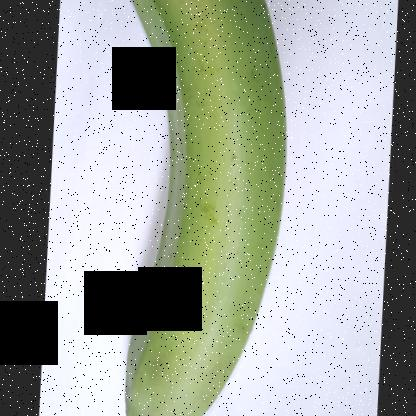freshunripe: (94, 1, 309, 415)
